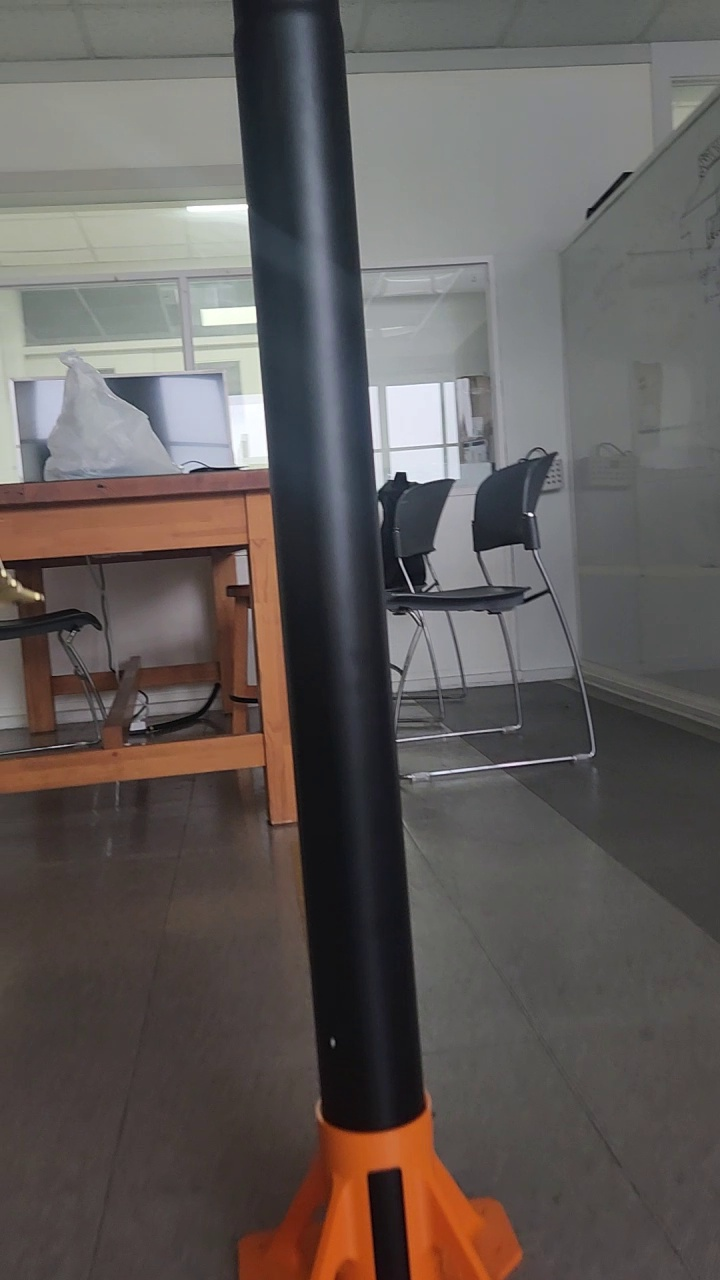pole: (230, 0, 420, 1118)
